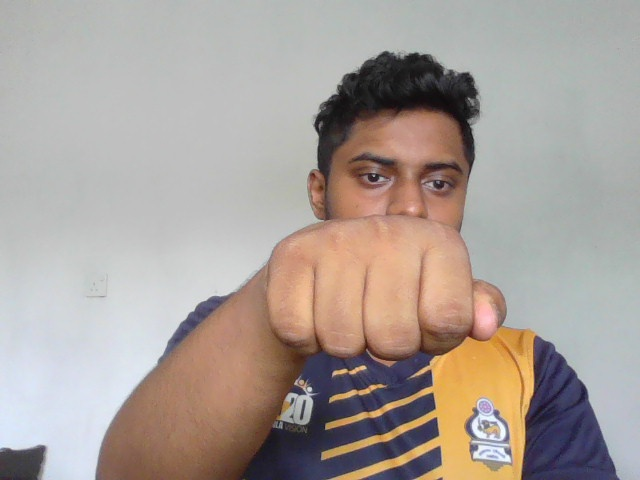Yes: (267, 216, 514, 365)
